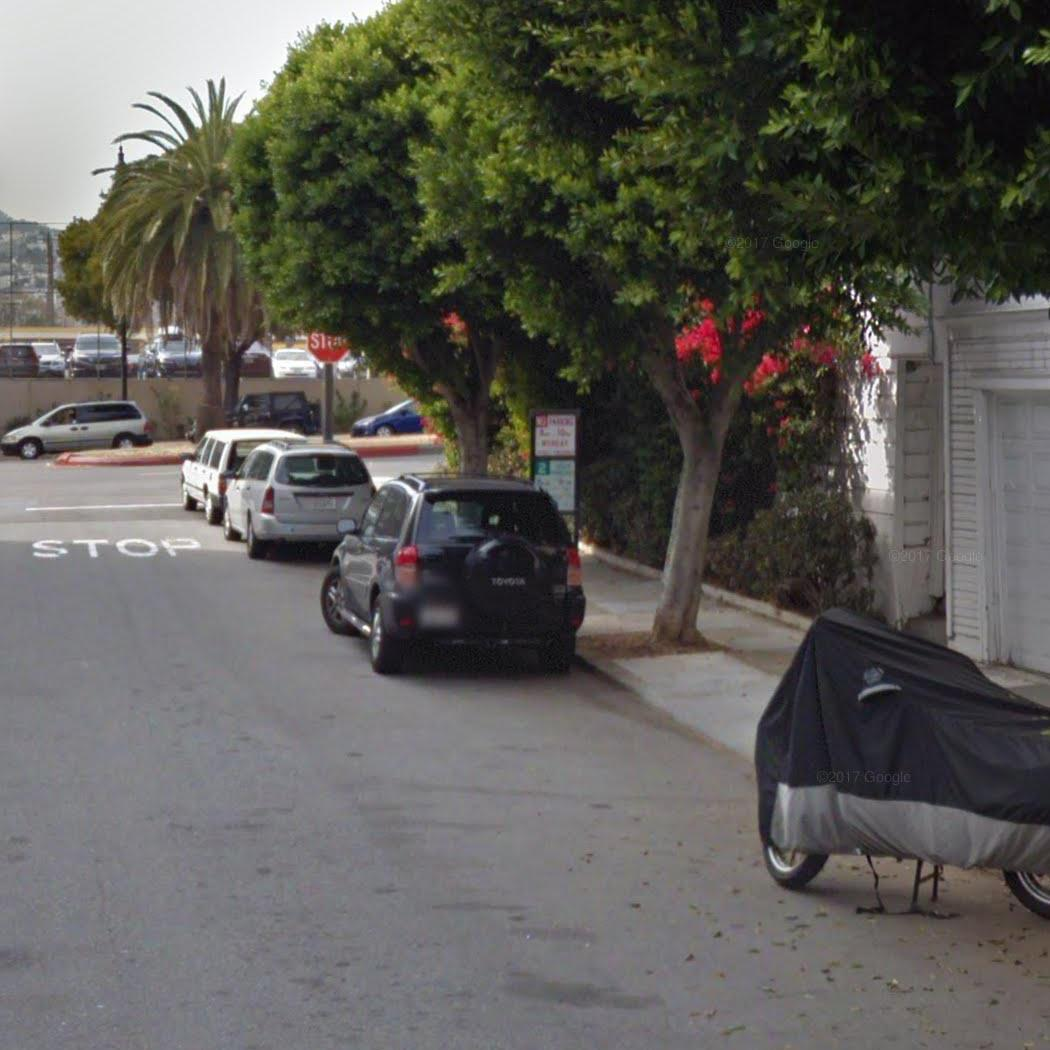2 Hour Parking: (530, 457, 579, 514)
No Parking: (530, 409, 580, 459)
